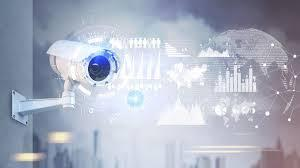tutu: (47, 40, 120, 90)
